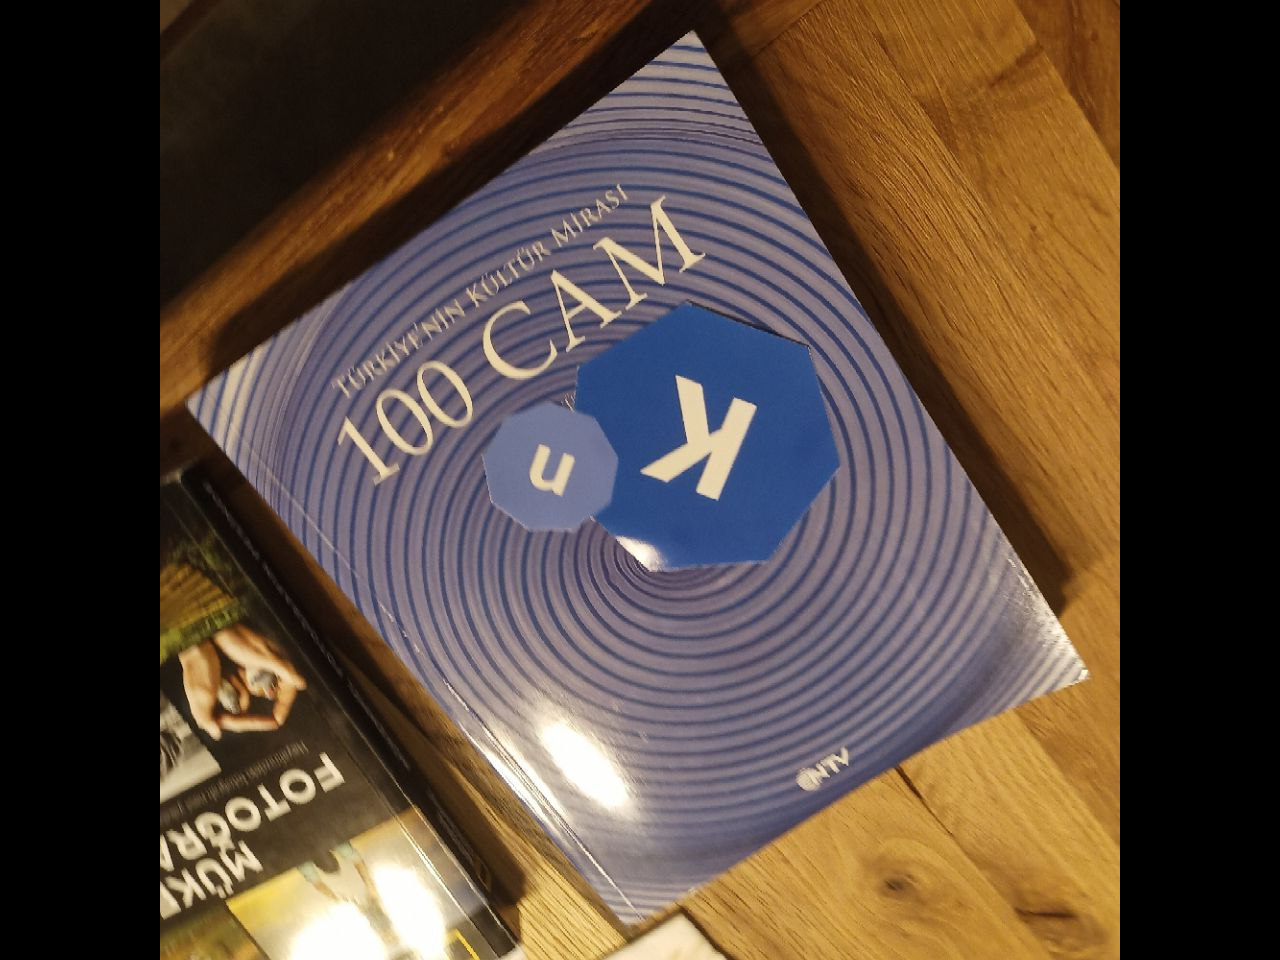knative: (481, 301, 842, 576)
